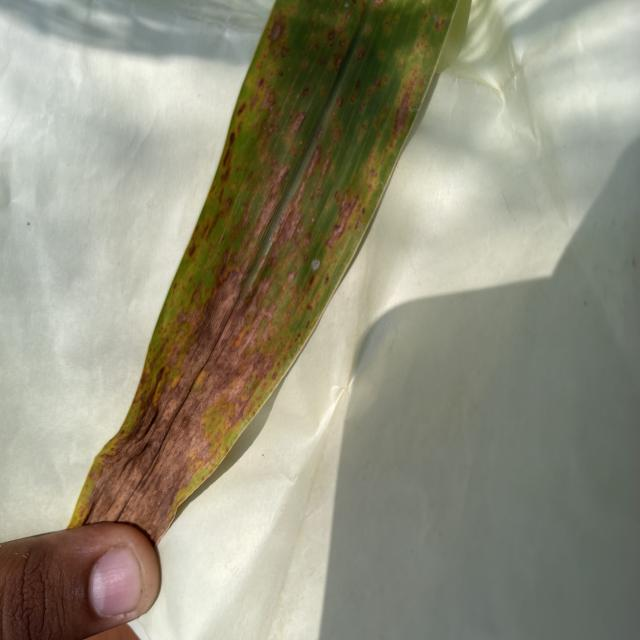millet_rust: (65, 0, 467, 525)
